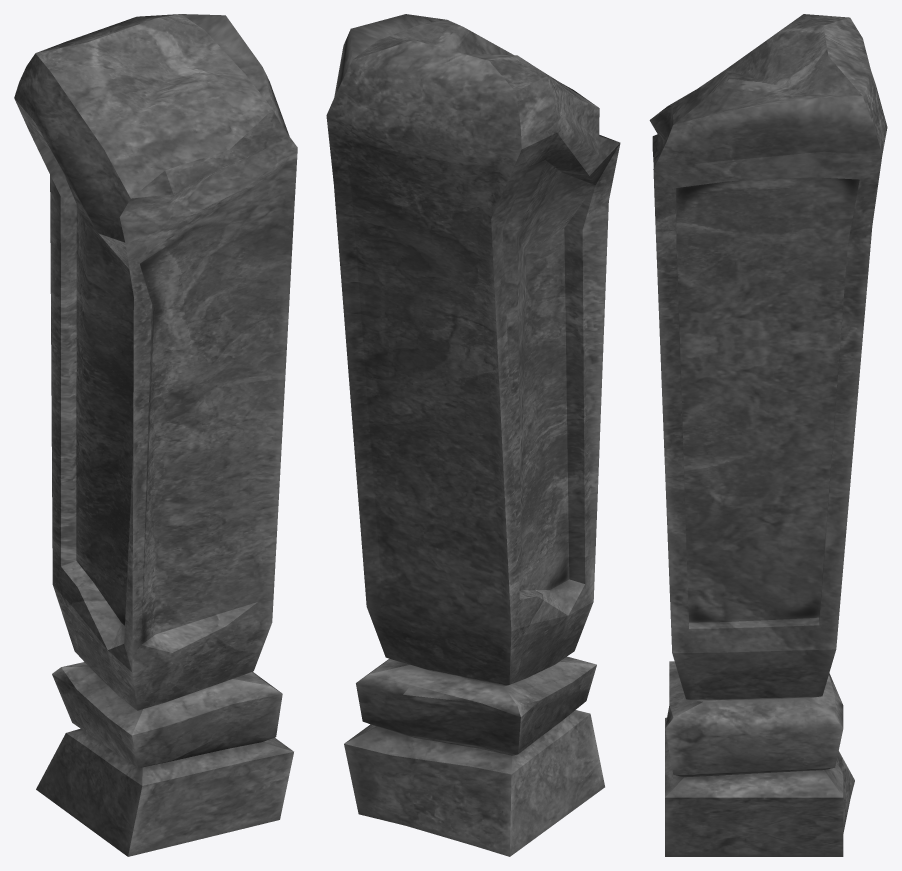
File: Pillar1.FBX
The picture shows the model from 3 angles, left to right: view 1: azimuth 30°, elevation 25°; view 2: azimuth 150°, elevation 25°; view 3: azimuth 270°, elevation 25°; orthographic projection. The views are drawn at different scales.
Visible parts, largest first — view 1: Pillar1; view 2: Pillar1; view 3: Pillar1.
Part boxes in pixels (box(x1,y1,x2,y2)): Pillar1: box(14, 14, 297, 856); Pillar1: box(326, 14, 620, 856); Pillar1: box(649, 14, 887, 856).
Size of the model in its own units: 84.18 by 83.98 by 303.
1 material, 1 textured.
